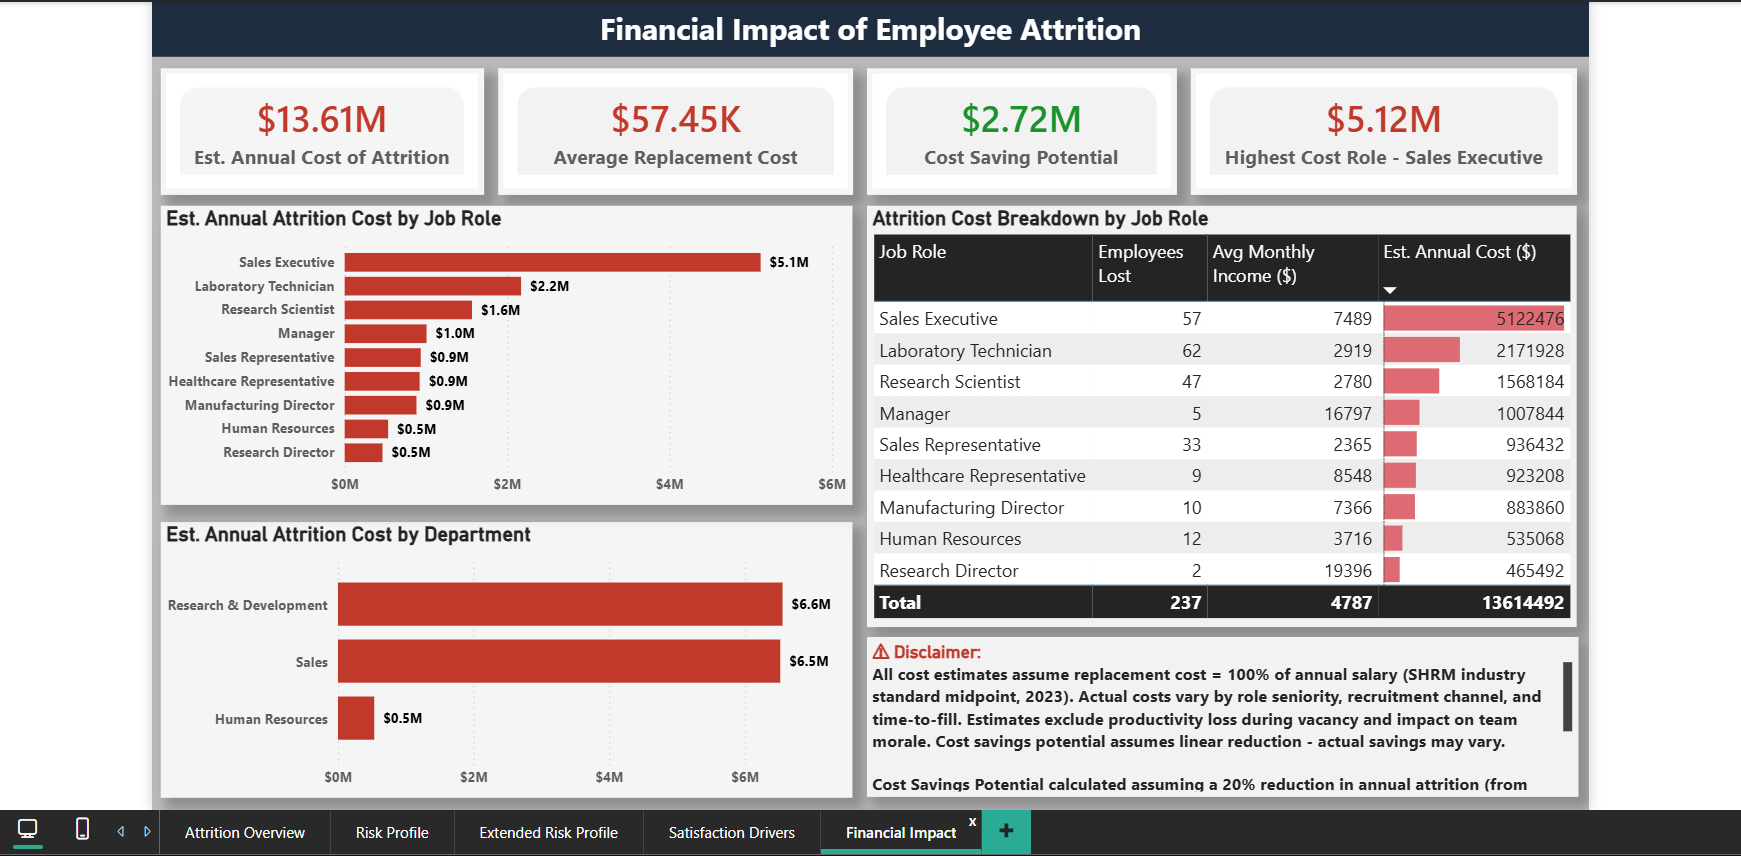

The page's visual inventory and layout, read from the dashboard file:
{"tool":"powerbi","page":{"name":"Financial Impact","canvas":[1280,720],"ordinal":4},"visuals":[{"type":"textbox","box":[0,0,1279.8,49.1],"z":0},{"type":"cardVisual","fields":{"Data":["HR Measures.Total Annual Attrition Cost"]},"box":[8.1,59.2,287.8,113],"z":1000},{"type":"cardVisual","fields":{"Data":["HR Measures.Avg Replacement Cost"]},"box":[308.4,59.2,316,113],"z":2000},{"type":"cardVisual","fields":{"Data":["HR Measures.Cost Savings Potential"]},"box":[637,59.2,275.7,113],"z":3000},{"type":"cardVisual","fields":{"Data":["HR Measures.Highest Cost Role"]},"box":[925.2,59.2,344.3,113],"z":4000},{"type":"barChart","title":"Est. Annual Attrition Cost by Department","fields":{"Category":["Cleaned_Data.Department"],"Y":["HR Measures.Total Annual Attrition Cost"]},"box":[8.3,463.3,615.9,245.5],"z":5000},{"type":"barChart","title":"Est. Annual Attrition Cost by Job Role","fields":{"Y":["HR Measures.Total Annual Attrition Cost"],"Category":["Cleaned_Data.JobRole"]},"box":[8.3,181.7,615.9,266.3],"z":6000},{"type":"tableEx","title":"Attrition Cost Breakdown by Job Role","fields":{"Values":["Cleaned_Data.JobRole","Sum(Cleaned_Data.Attrition_Flag)","Avg(Cleaned_Data.MonthlyIncome)","HR Measures.Total Annual Attrition Cost"]},"box":[637,181.5,632,375.4],"z":7000},{"type":"textbox","title":"⚠ Disclaimer:","box":[637,565.7,633.2,142.7],"z":8000}]}

Visuals, with their boxes on the page's 1280x720 design canvas (x1, y1, x2, y2). These are canvas units, not pixel positions in the 1741x856 screenshot, which may show the page scaled, cropped or inside an application window:
textbox: [left=0, top=0, right=1280, bottom=49]
cardVisual - HR Measures.Total Annual Attrition Cost: [left=8, top=59, right=296, bottom=172]
cardVisual - HR Measures.Avg Replacement Cost: [left=308, top=59, right=624, bottom=172]
cardVisual - HR Measures.Cost Savings Potential: [left=637, top=59, right=913, bottom=172]
cardVisual - HR Measures.Highest Cost Role: [left=925, top=59, right=1270, bottom=172]
"Est. Annual Attrition Cost by Department" barChart: [left=8, top=463, right=624, bottom=709]
"Est. Annual Attrition Cost by Job Role" barChart: [left=8, top=182, right=624, bottom=448]
"Attrition Cost Breakdown by Job Role" tableEx: [left=637, top=182, right=1269, bottom=557]
"⚠ Disclaimer:" textbox: [left=637, top=566, right=1270, bottom=708]
